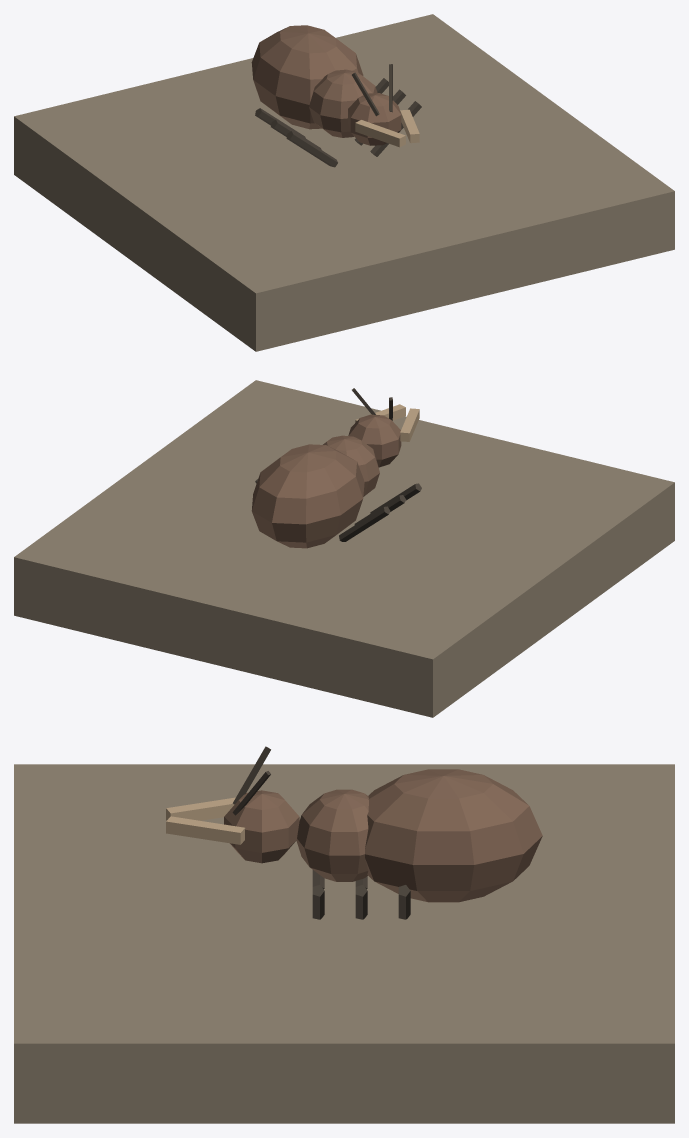
The model's file is bug_stag.glb.
The picture shows the model from 3 angles, top to bottom: view 1: azimuth 30°, elevation 25°; view 2: azimuth 150°, elevation 25°; view 3: azimuth 270°, elevation 25°; orthographic projection. The views are drawn at different scales.
Visible parts, largest first — view 1: Base, TurretMesh, HeadMesh; view 2: Base, TurretMesh, HeadMesh; view 3: Base, TurretMesh, HeadMesh.
Part boxes in pixels (x1,y1,x2,y2): Base: (14, 14, 674, 351); TurretMesh: (251, 25, 421, 167); HeadMesh: (348, 64, 419, 147); Base: (14, 380, 674, 717); TurretMesh: (251, 435, 421, 548); HeadMesh: (348, 388, 419, 467); Base: (14, 764, 674, 1123); TurretMesh: (296, 769, 542, 919); HeadMesh: (166, 746, 299, 863).
Size of the model in its own units: 1.8 by 0.6755 by 1.8.
